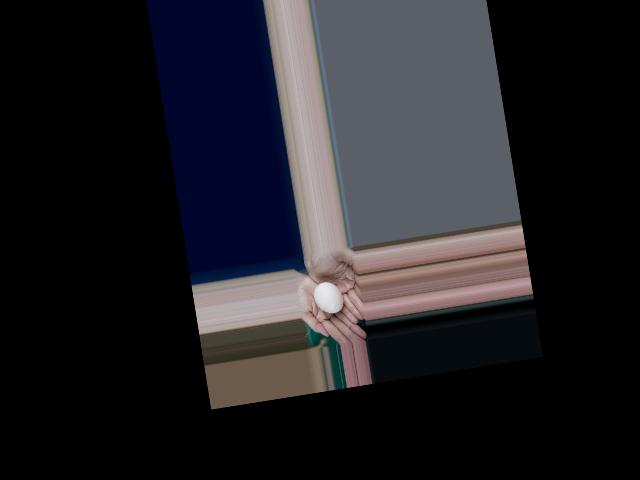egg: (313, 280, 344, 316)
